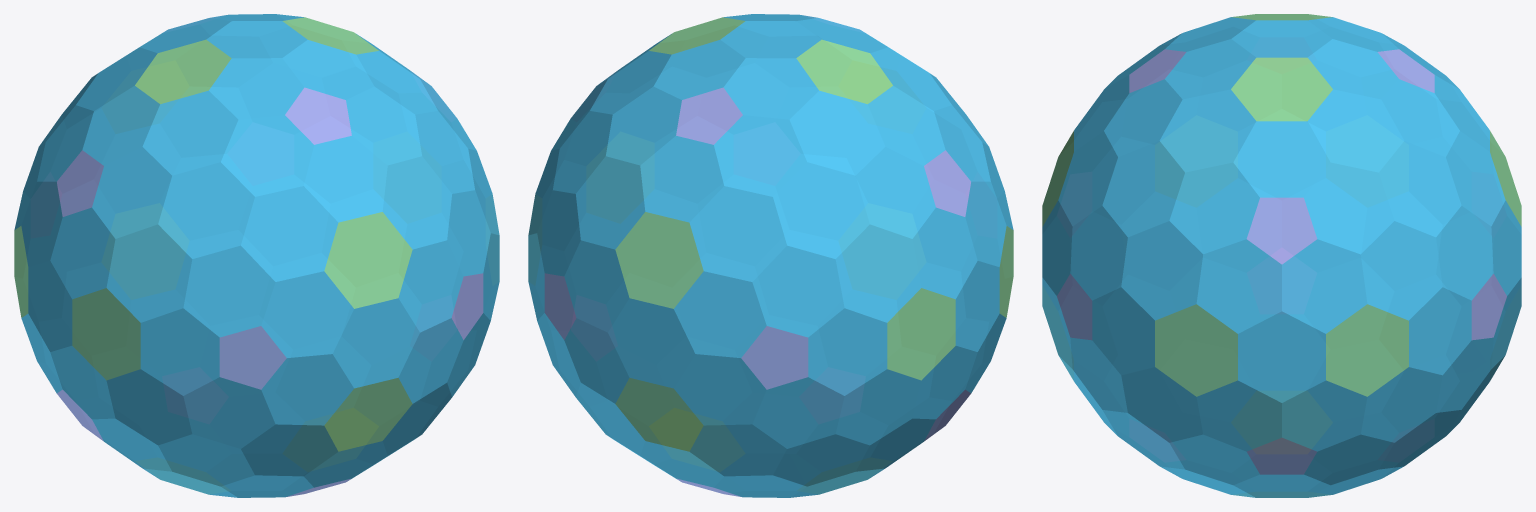
The model's file is ChamferedTruncatedIcosahedron.obj.
3 renders of one model, left to right at view 1: azimuth 30°, elevation 25°; view 2: azimuth 150°, elevation 25°; view 3: azimuth 270°, elevation 25°, orthographic.
Bounding box in the file's own units: 1.97 × 1.97 × 1.97.
